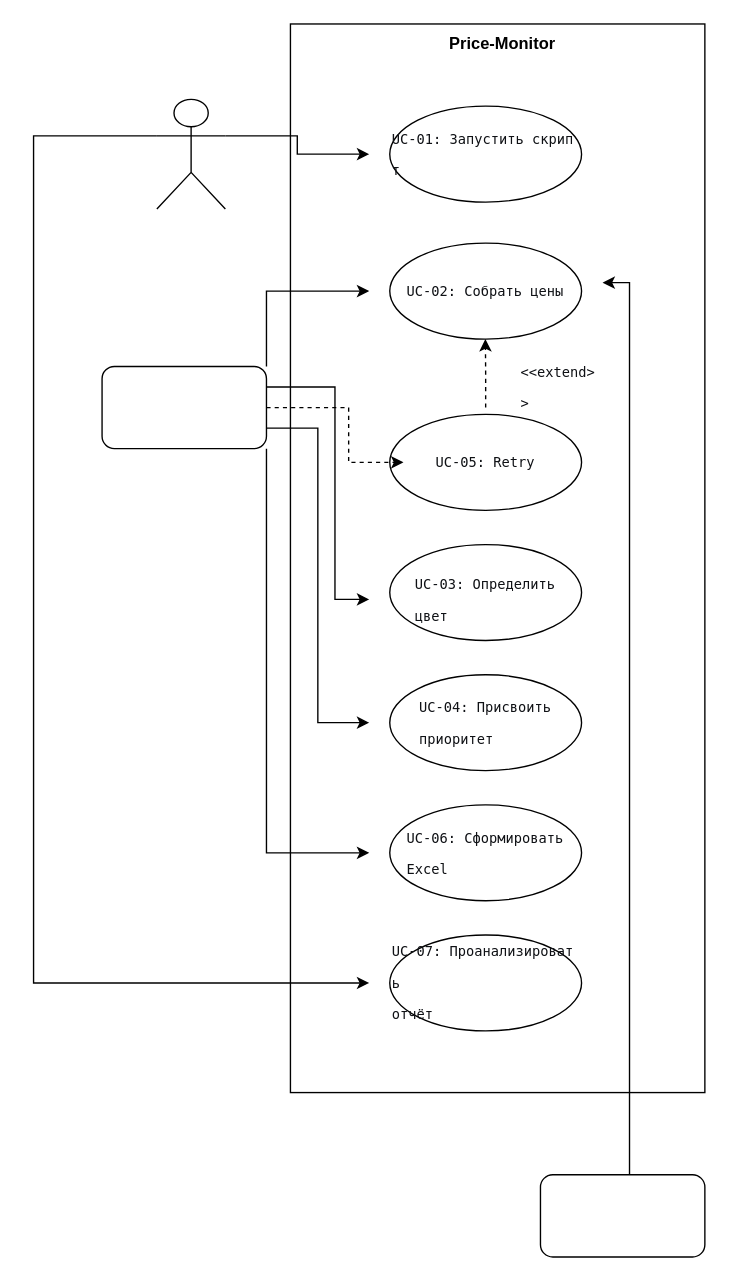
Some shapes in this 729 by 1281 pixel diagram are drawn without their labels. Here are the shapes that lost their labels. From the top down, the centre of each, then its label:
At point 190,153: "Владелец магазина".
At point 183,407: "Скрипт".
At point 622,1215: "Vako.Market".
